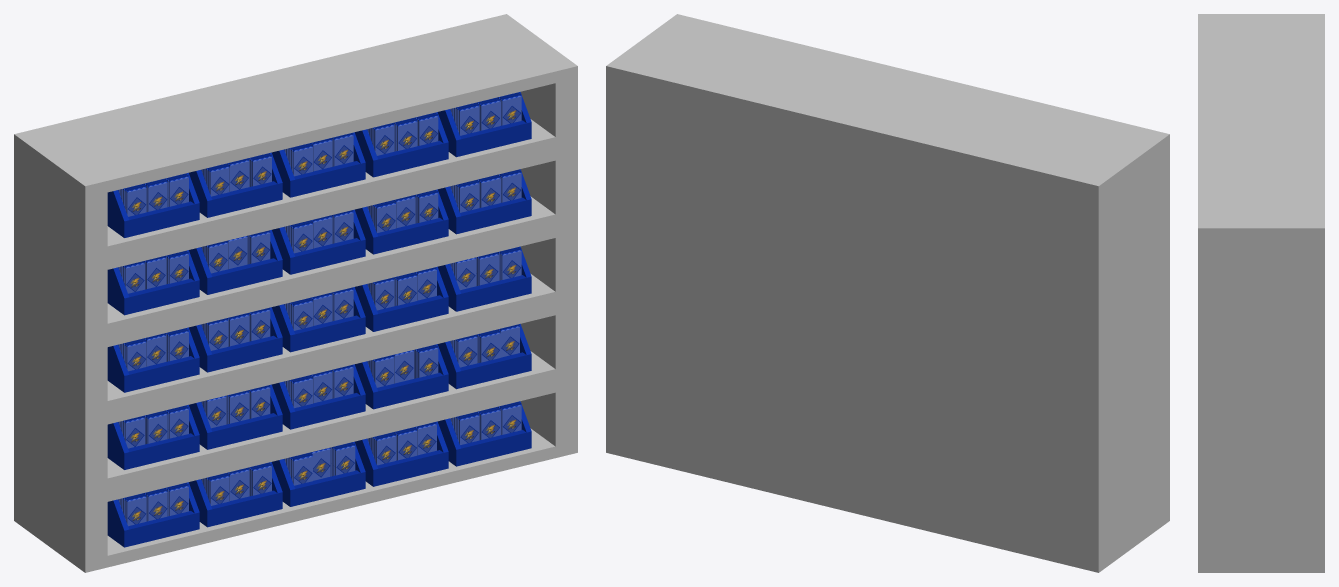
File: Evelmart_Shelf_Lightning.fbx
The picture shows the model from 3 angles, left to right: view 1: azimuth 30°, elevation 25°; view 2: azimuth 150°, elevation 25°; view 3: azimuth 270°, elevation 25°; orthographic projection. The views are drawn at different scales.
Parts seen in each view (by area): view 1: Long Bookshelf, Cube.023, Cube.022, Cube.024, Cube.025, Cube.021, Lightning, Lightning.004, Lightning.003, Lightning.001, Lightning.002; view 2: Long Bookshelf; view 3: Long Bookshelf.
Boxes of the visible parts, x1,y1,x2,y2 form: Long Bookshelf: (14,14,577,572); Cube.023: (107,246,531,392); Cube.022: (107,324,531,469); Cube.024: (107,169,531,315); Cube.025: (107,92,531,237); Cube.021: (107,401,531,547); Lightning: (118,401,521,526); Lightning.004: (118,92,521,216); Lightning.003: (118,169,521,293); Lightning.001: (118,324,519,448); Lightning.002: (118,246,521,371); Long Bookshelf: (606,14,1169,572); Long Bookshelf: (1198,14,1324,572).
Bounding box in the file's own units: 805 × 604 × 201.
